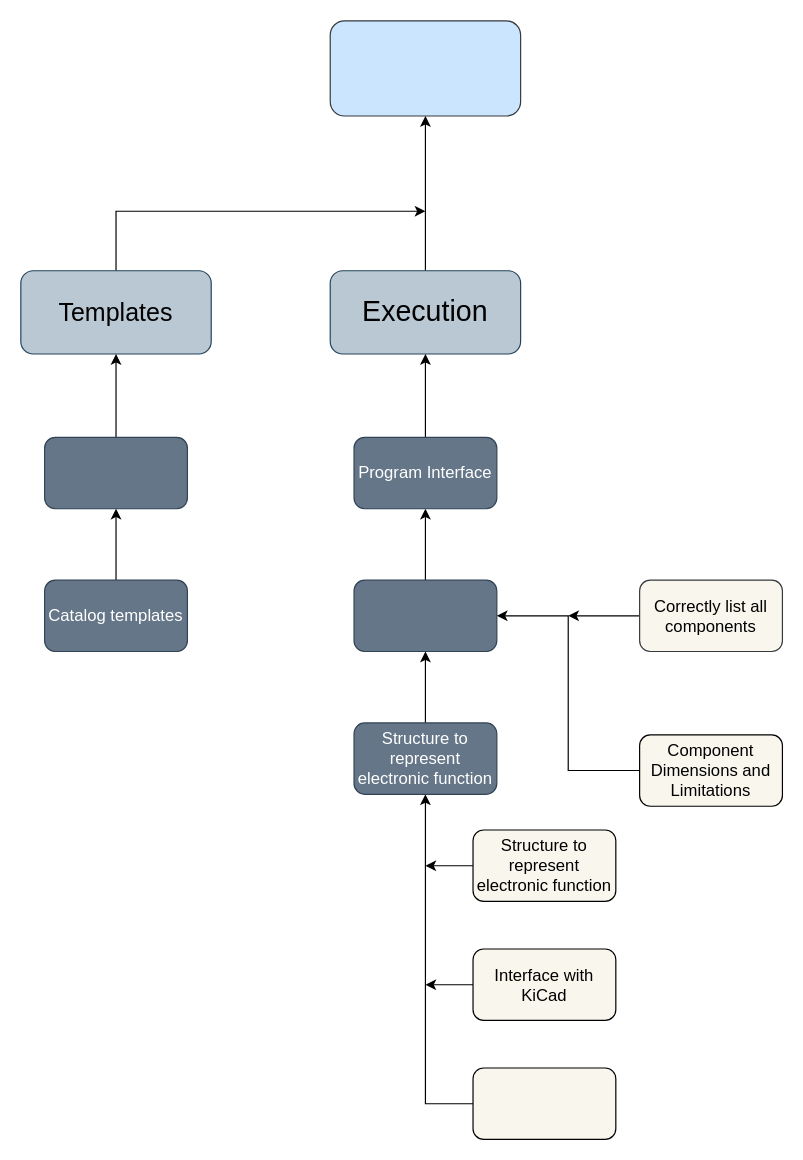
This 803x1160 diagram has some shape labels left out. The shapes that lost their labels are listed below. From the top down, each one's centre as x and y in pixels, then its label:
the point at 425,68: PROJECT
the point at 115,472: Parse templates
the point at 425,615: Template Parameters
the point at 544,1103: Schematic of a RC filter
